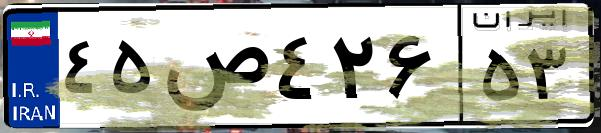2: (330, 28, 385, 110)
3: (525, 38, 570, 115)
4: (270, 28, 330, 110), (57, 26, 110, 100)
5: (475, 38, 525, 113), (110, 28, 158, 98)
6: (385, 28, 445, 110)
ص: (158, 20, 270, 120)
